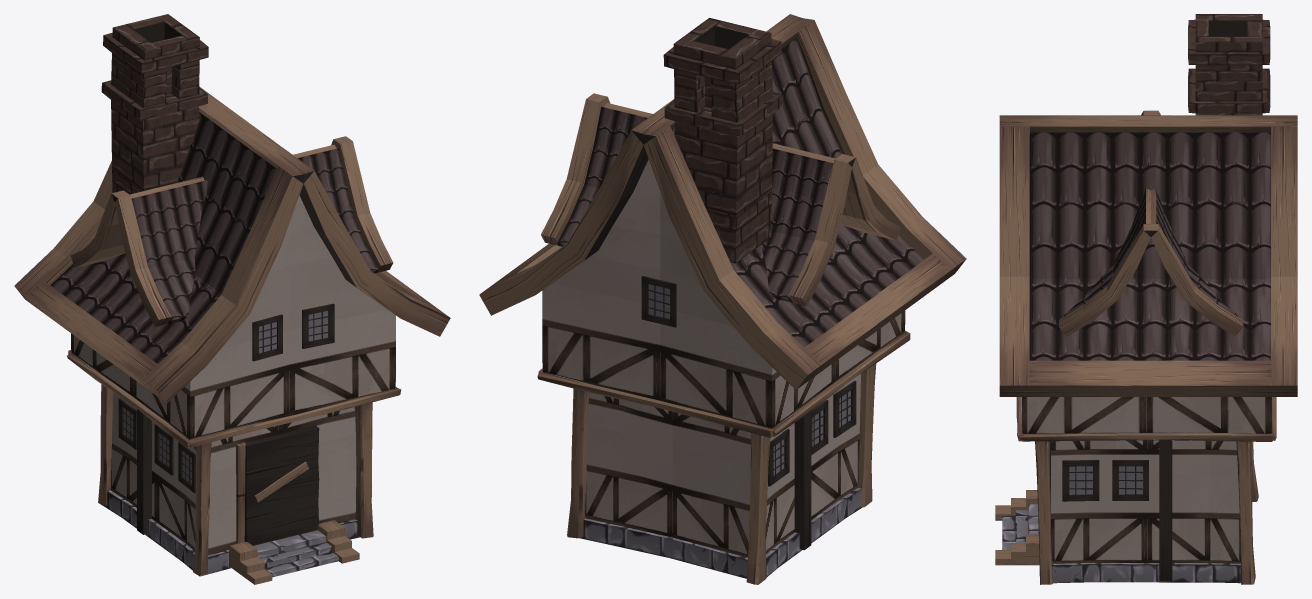
Rendered from testing house 2.fbx.
3 views of the same model, side by side, from view 1: azimuth 30°, elevation 25°; view 2: azimuth 150°, elevation 25°; view 3: azimuth 270°, elevation 25° (orthographic). The views are drawn at different scales.
Visible parts, largest first — view 1: polySurface205, Building_Top, Building_Bottom, Chimney_2, Door_2, Bottom_Pillars, pCube33, Steps, Wooden_Borders_2, polySurface200, polySurface198; view 2: polySurface205, Building_Top, Building_Bottom, Chimney_2, Bottom_Pillars, pCube33, Wooden_Borders_2, polySurface200; view 3: polySurface205, Building_Bottom, Building_Top, Chimney_2, Bottom_Pillars, pCube33, Steps, Wooden_Borders_2, polySurface206.
Part boxes in pixels (left/top/right/bottom): polySurface205: left=14, top=86, right=450, bottom=402; Building_Top: left=71, top=195, right=395, bottom=439; Building_Bottom: left=103, top=392, right=359, bottom=576; Chimney_2: left=101, top=14, right=208, bottom=194; Door_2: left=244, top=425, right=319, bottom=545; Bottom_Pillars: left=98, top=384, right=373, bottom=574; pCube33: left=118, top=303, right=334, bottom=493; Steps: left=229, top=520, right=359, bottom=584; Wooden_Borders_2: left=67, top=350, right=401, bottom=448; polySurface200: left=137, top=409, right=151, bottom=534; polySurface198: left=236, top=442, right=246, bottom=543; polySurface205: left=479, top=14, right=966, bottom=389; Building_Top: left=542, top=159, right=905, bottom=428; Building_Bottom: left=579, top=374, right=862, bottom=578; Chimney_2: left=663, top=18, right=783, bottom=263; Bottom_Pillars: left=567, top=363, right=876, bottom=584; pCube33: left=641, top=276, right=856, bottom=486; Wooden_Borders_2: left=537, top=330, right=910, bottom=437; polySurface200: left=794, top=411, right=811, bottom=550; polySurface205: left=999, top=110, right=1297, bottom=396; Building_Bottom: left=1051, top=440, right=1241, bottom=583; Building_Top: left=1022, top=397, right=1271, bottom=441; Chimney_2: left=1188, top=14, right=1270, bottom=115; Bottom_Pillars: left=1035, top=441, right=1258, bottom=584; pCube33: left=1062, top=460, right=1148, bottom=501; Steps: left=995, top=490, right=1039, bottom=565; Wooden_Borders_2: left=1016, top=397, right=1276, bottom=441; polySurface206: left=1159, top=440, right=1172, bottom=581.
Bounding box in the file's own units: 552 × 842 × 469.
